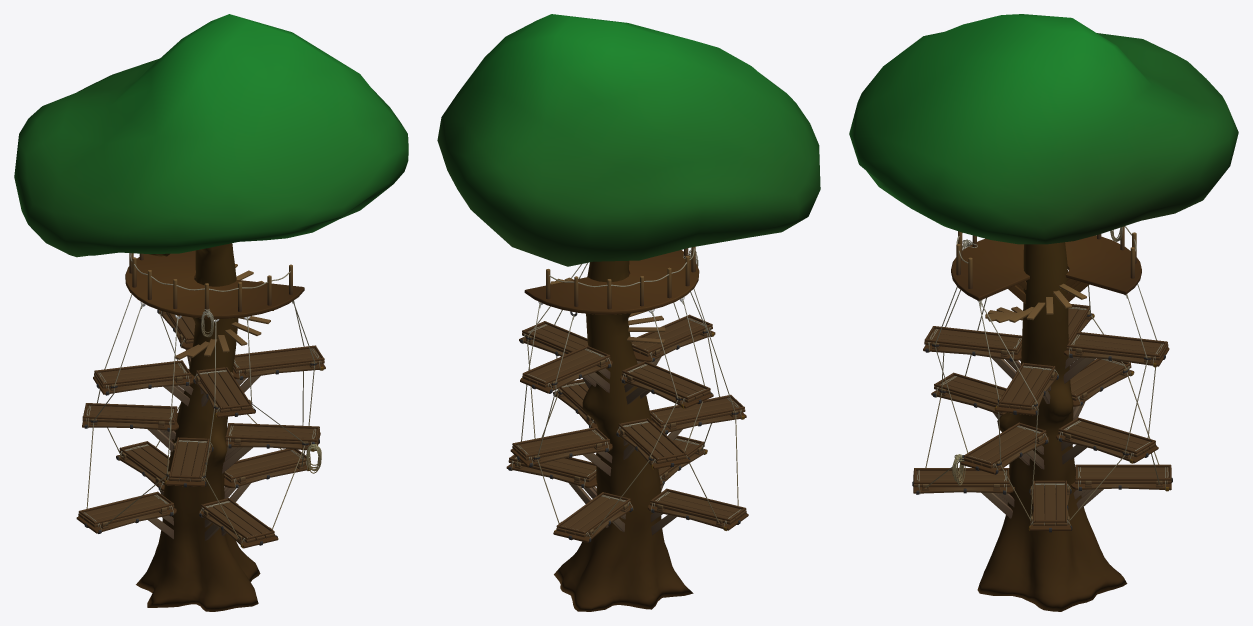
The model's file is Tree_test 01_21.12.fbx.
The picture shows the model from 3 angles, left to right: view 1: azimuth 30°, elevation 25°; view 2: azimuth 150°, elevation 25°; view 3: azimuth 270°, elevation 25°; orthographic projection. The views are drawn at different scales.
Parts seen in each view (by area): view 1: Icosphere.036, Cube.439, Cube.074, Cube.053, Cube.056, Cube.007, Cube.073, Cube.001, Cube.040, BezierCurve.006, Cube.066, Cube.047 (+4 smaller); view 2: Icosphere.036, Cube.439, Cube.045, Cube.007, Cube.072, Cube.074, BezierCurve.006, Cube.006, Cube.047, Cube.053, Cube.066, Cube.001 (+5 smaller); view 3: Icosphere.036, Cube.439, Cube.072, Cube.006, Cube.066, Cube.045, Cube.040, Cube.056, BezierCurve.006, Cube.073, Cube.001, Cube.053 (+4 smaller).
Part boxes in pixels (x1,y1,x2,y2): Icosphere.036: [14, 14, 408, 611]; Cube.439: [125, 250, 304, 318]; Cube.074: [93, 360, 194, 406]; Cube.053: [82, 403, 178, 451]; Cube.056: [222, 423, 320, 473]; Cube.007: [76, 491, 176, 539]; Cube.073: [232, 345, 325, 392]; Cube.001: [224, 448, 312, 502]; Cube.040: [199, 498, 278, 548]; BezierCurve.006: [86, 294, 314, 539]; Cube.066: [193, 367, 255, 417]; Cube.047: [165, 437, 213, 487]; Icosphere.036: [437, 14, 820, 611]; Cube.439: [524, 250, 699, 314]; Cube.045: [510, 427, 612, 476]; Cube.007: [647, 488, 748, 535]; Cube.072: [520, 345, 612, 393]; Cube.074: [620, 361, 713, 408]; BezierCurve.006: [516, 263, 738, 533]; Cube.006: [553, 492, 633, 542]; Cube.047: [650, 394, 746, 440]; Cube.053: [616, 418, 690, 469]; Cube.066: [631, 314, 715, 365]; Cube.001: [506, 455, 597, 503]; Icosphere.036: [849, 14, 1238, 611]; Cube.439: [951, 235, 1141, 303]; Cube.072: [1063, 331, 1169, 383]; Cube.006: [1071, 464, 1172, 510]; Cube.066: [923, 326, 1022, 379]; Cube.045: [1056, 417, 1158, 464]; Cube.040: [912, 468, 1014, 518]; Cube.056: [960, 422, 1048, 474]; BezierCurve.006: [925, 284, 1159, 520]; Cube.073: [994, 362, 1058, 415]; Cube.001: [1028, 480, 1072, 532]; Cube.053: [1070, 358, 1134, 420].
Bounding box in the file's own units: 2493 × 3745 × 2297.
